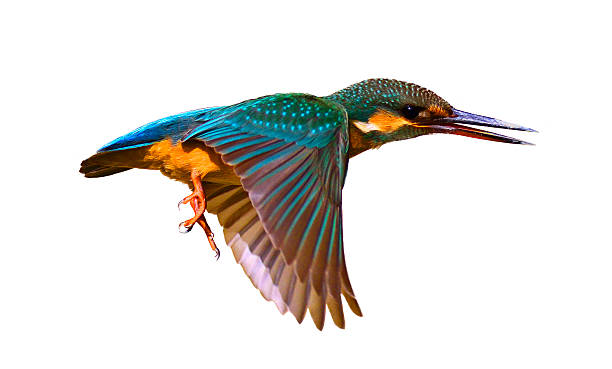Bird: (74, 74, 539, 332)
